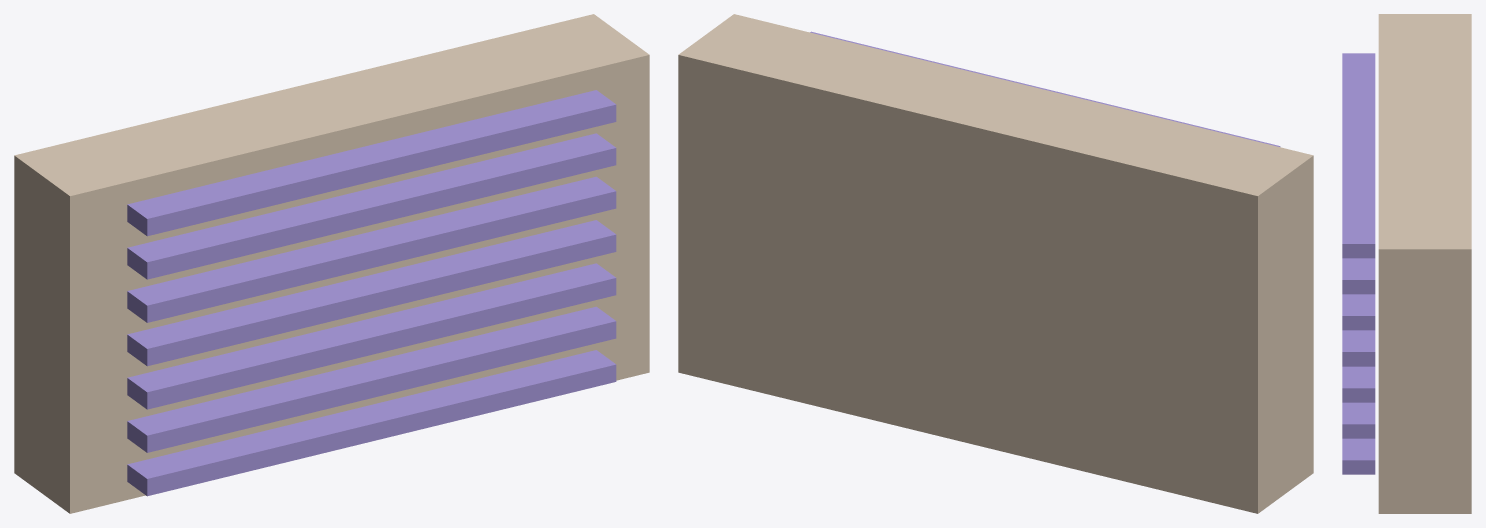
Rendered from vent.gltf.
3 renders of one model, left to right at view 1: azimuth 30°, elevation 25°; view 2: azimuth 150°, elevation 25°; view 3: azimuth 270°, elevation 25°, orthographic. The views are drawn at different scales.
Visible parts, largest first — view 1: frame, slat_1, slat_5, slat_2, slat_4, slat_0, slat_3, slat_6; view 2: frame, slat_6; view 3: frame, slat_6, slat_3, slat_0, slat_1, slat_2, slat_4, slat_5.
Part boxes in pixels (left/top/right/bottom): frame: left=14, top=14, right=649, bottom=513; slat_1: left=127, top=306, right=616, bottom=452; slat_5: left=127, top=133, right=616, bottom=279; slat_2: left=127, top=263, right=616, bottom=409; slat_4: left=127, top=176, right=616, bottom=322; slat_0: left=127, top=350, right=616, bottom=496; slat_3: left=127, top=220, right=616, bottom=366; slat_6: left=127, top=90, right=616, bottom=236; frame: left=678, top=14, right=1313, bottom=513; slat_6: left=810, top=31, right=1280, bottom=146; frame: left=1378, top=14, right=1471, bottom=513; slat_6: left=1342, top=53, right=1375, bottom=258; slat_3: left=1342, top=330, right=1375, bottom=366; slat_0: left=1342, top=438, right=1375, bottom=474; slat_1: left=1342, top=402, right=1375, bottom=438; slat_2: left=1342, top=366, right=1375, bottom=402; slat_4: left=1342, top=294, right=1375, bottom=330; slat_5: left=1342, top=258, right=1375, bottom=294.
Size of the model in its own units: 0.42 by 0.22 by 0.0975.
